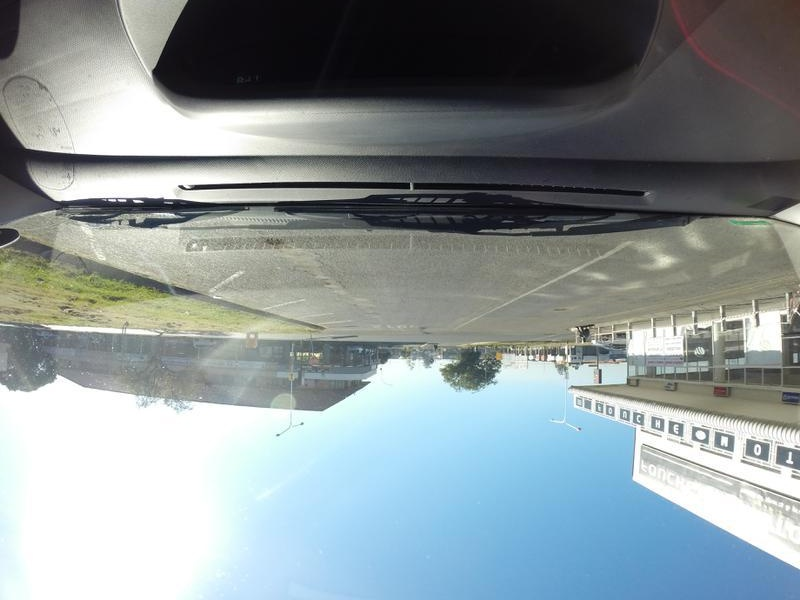pothole: (262, 235, 295, 249), (551, 305, 574, 313), (325, 277, 337, 288), (423, 331, 434, 336), (418, 325, 425, 330)
